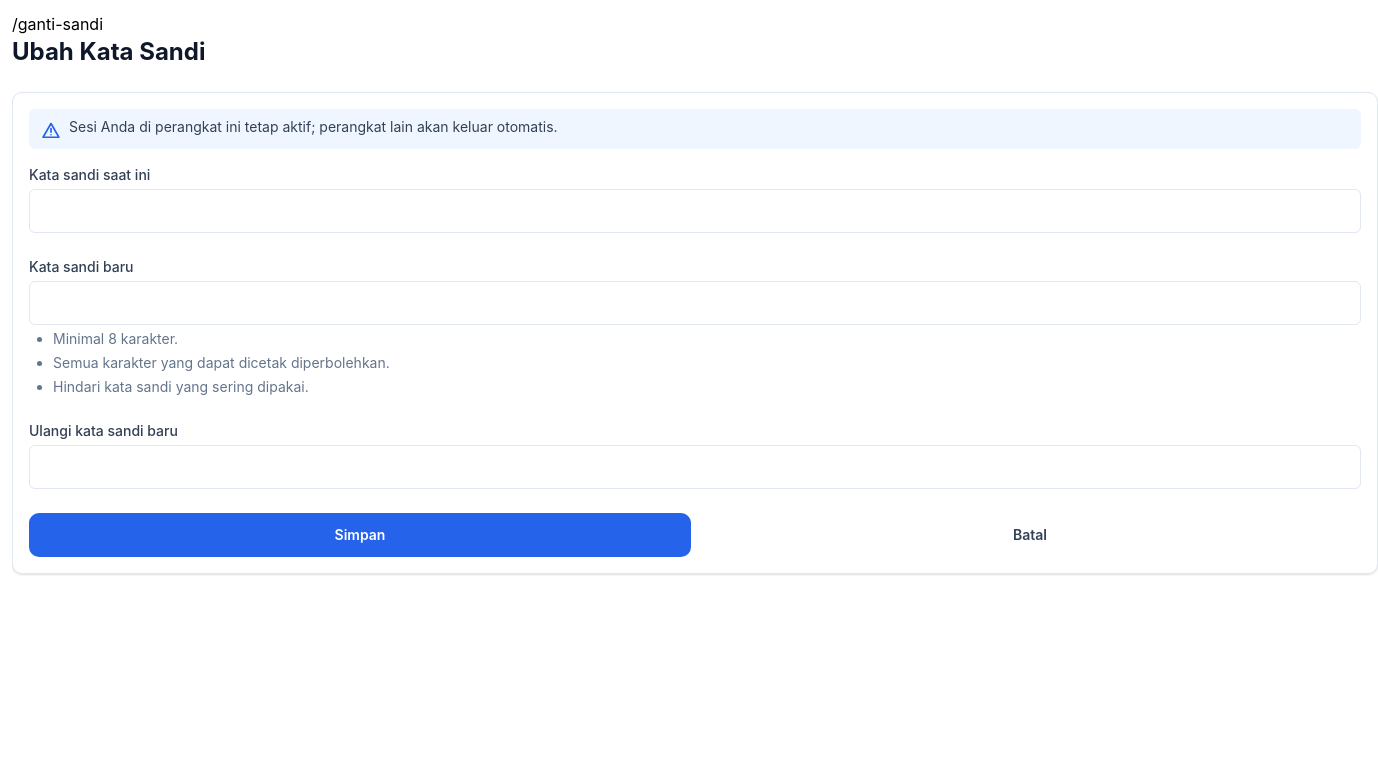
ChangePasswordPage › blocks a mismatched confirmation before any request is made
Step 1. Type "old-secret-1" into the password field labelled "Kata sandi saat ini" → (695, 211), box [29,189,1361,233]
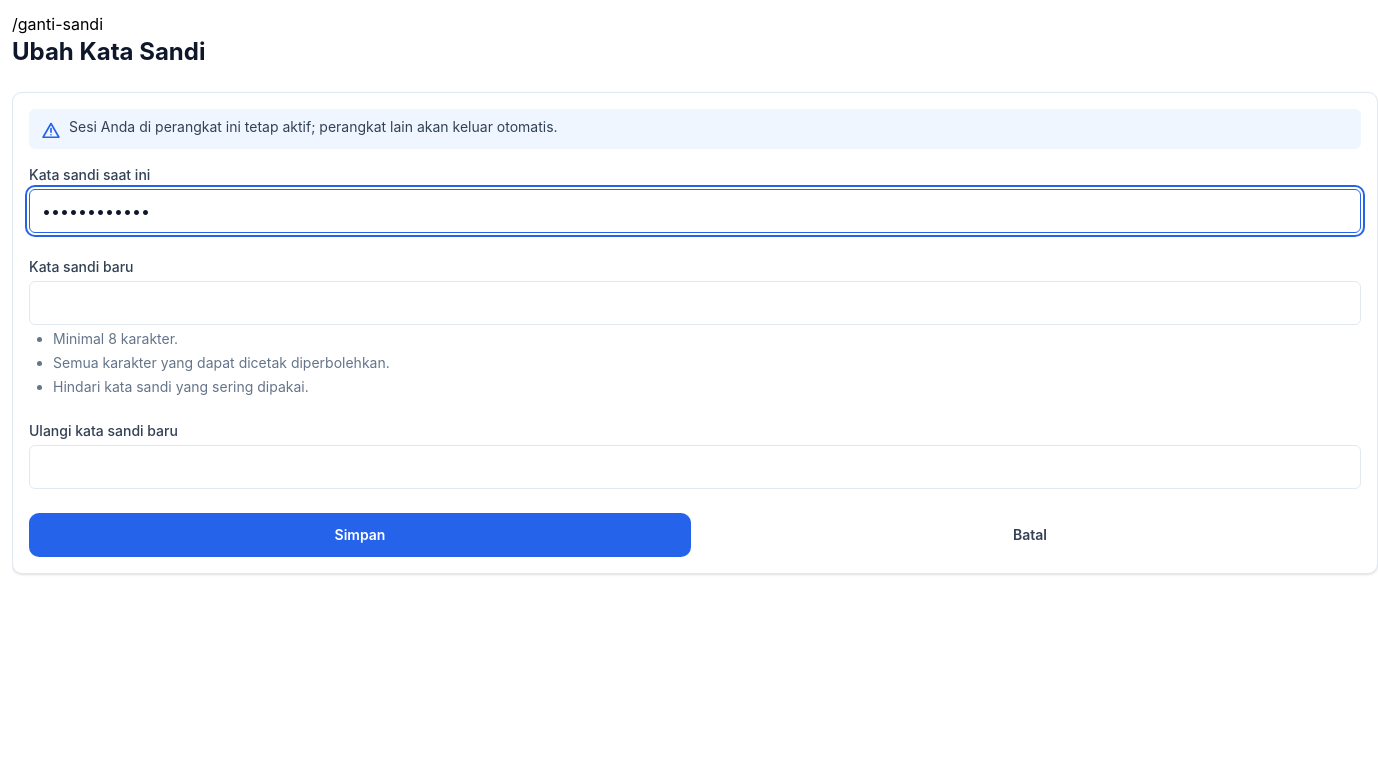
Step 2. Type "brand-new-pass" into the password field labelled "Kata sandi baru" → (695, 303), box [29,281,1361,325]
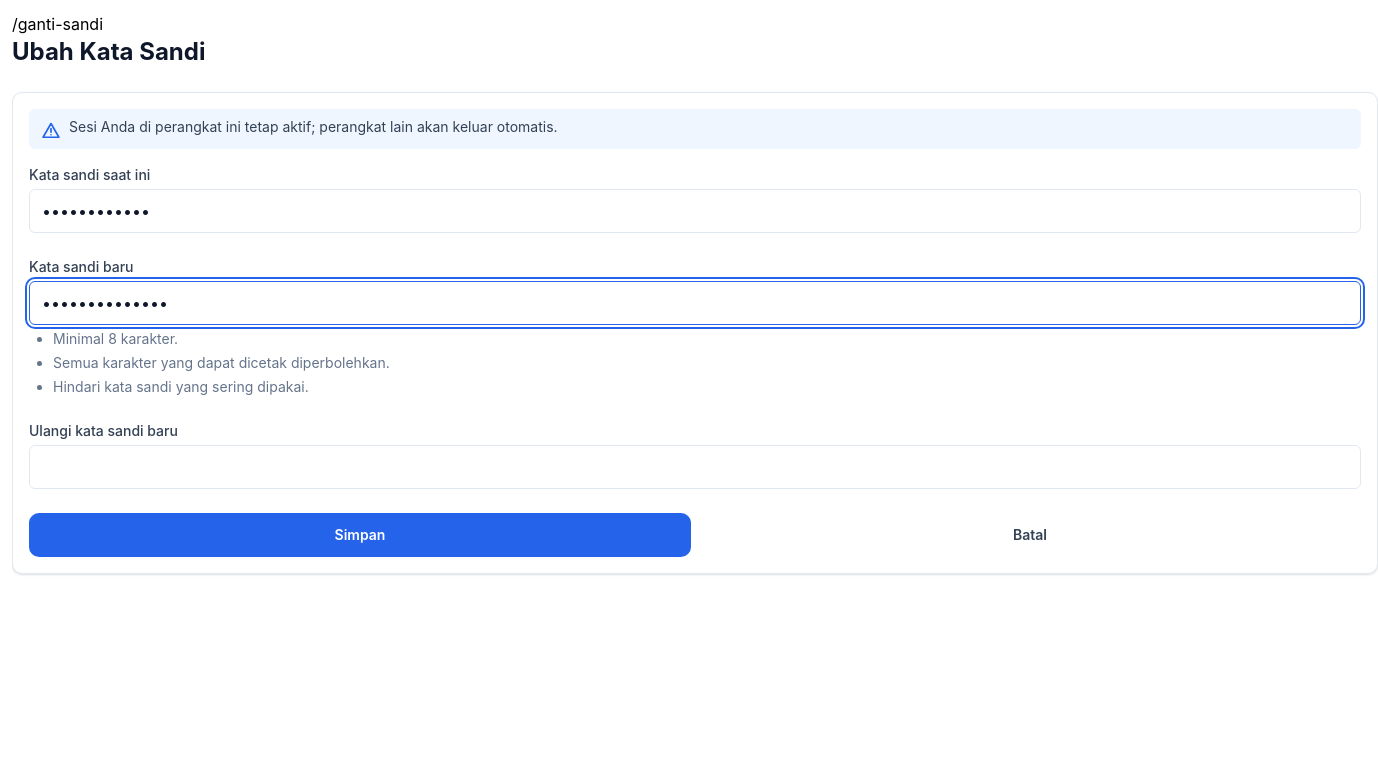
Step 3. Type "different-pass" into the password field labelled "Ulangi kata sandi baru" → (695, 467), box [29,445,1361,489]
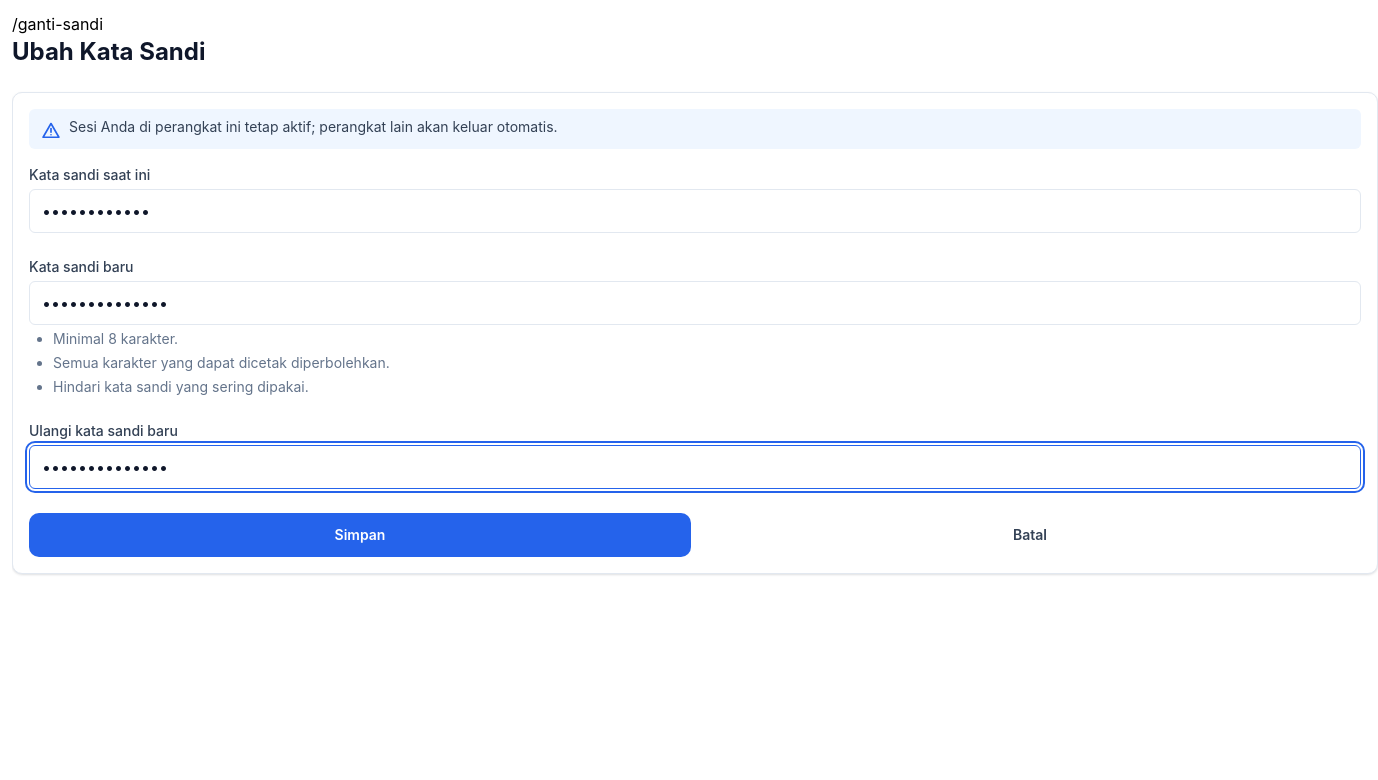
Step 4. Click the button with test id "password-save" → (360, 535), box [29,513,691,557]
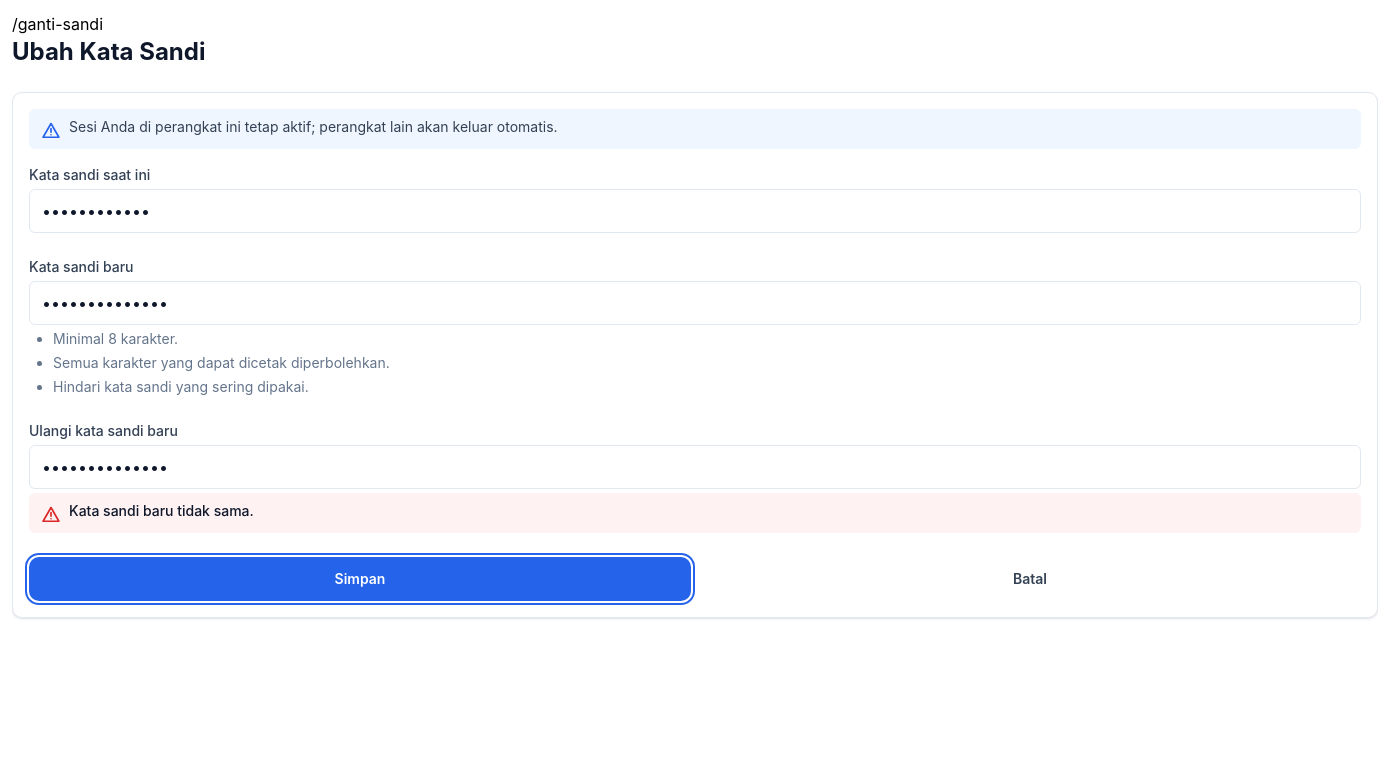
expect the text with test id "location-path" reads "/ganti-sandi": met, box [12,14,103,34]
expect the message with test id "password-error" reads "Kata sandi baru tidak sama.": met, box [69,502,254,519]
